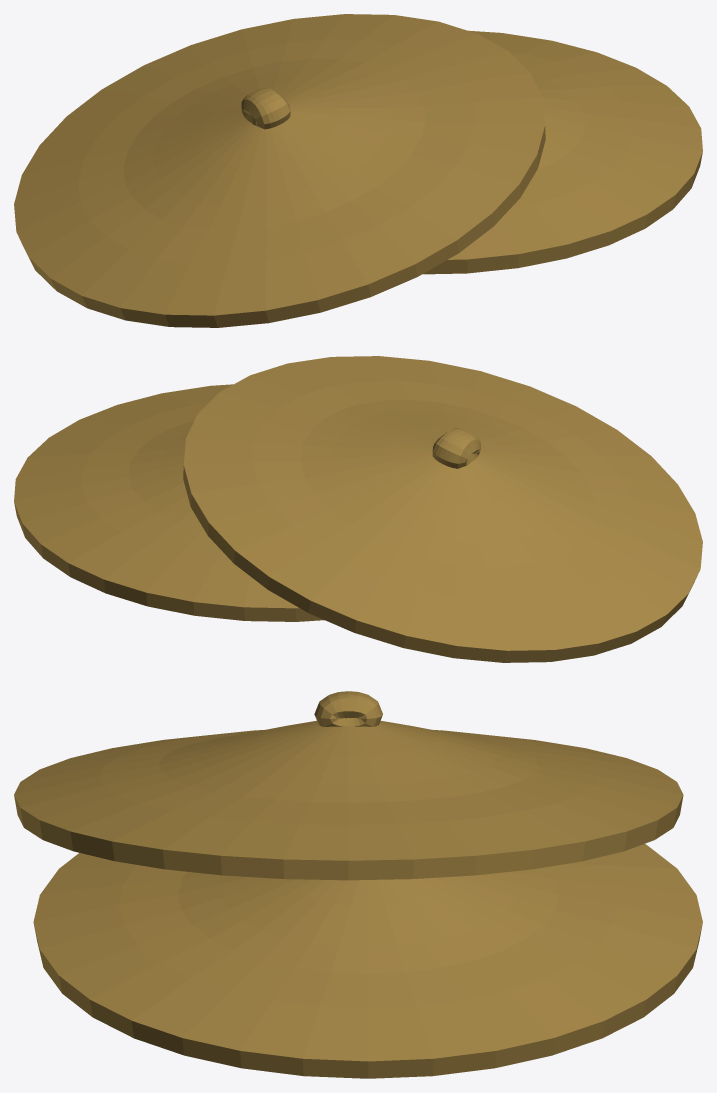
File: Cymbals_1.fbx
3 views of the same model, one above another, from view 1: azimuth 30°, elevation 25°; view 2: azimuth 150°, elevation 25°; view 3: azimuth 270°, elevation 25° (orthographic). The views are drawn at different scales.
Parts seen in each view (by area): view 1: Circle.005; view 2: Circle.005; view 3: Circle.005.
Boxes of the visible parts, x1=… form: Circle.005: x1=14, y1=14, x2=702, y2=327; Circle.005: x1=14, y1=356, x2=702, y2=662; Circle.005: x1=14, y1=691, x2=702, y2=1078.
Size of the model in its own units: 68.5 by 15.53 by 53.15.
